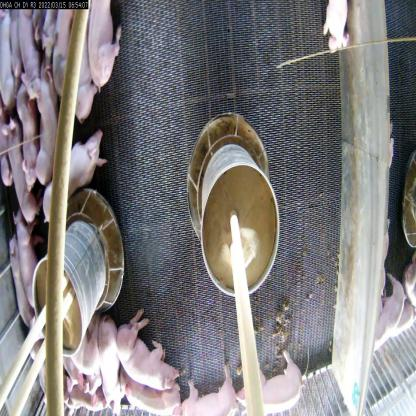Pig: (42, 129, 111, 230), (114, 314, 177, 396), (26, 62, 64, 186), (61, 7, 100, 120), (2, 114, 38, 230), (233, 356, 302, 416), (88, 0, 129, 90), (96, 310, 130, 415), (12, 206, 45, 309), (184, 369, 235, 416), (128, 376, 183, 415)
